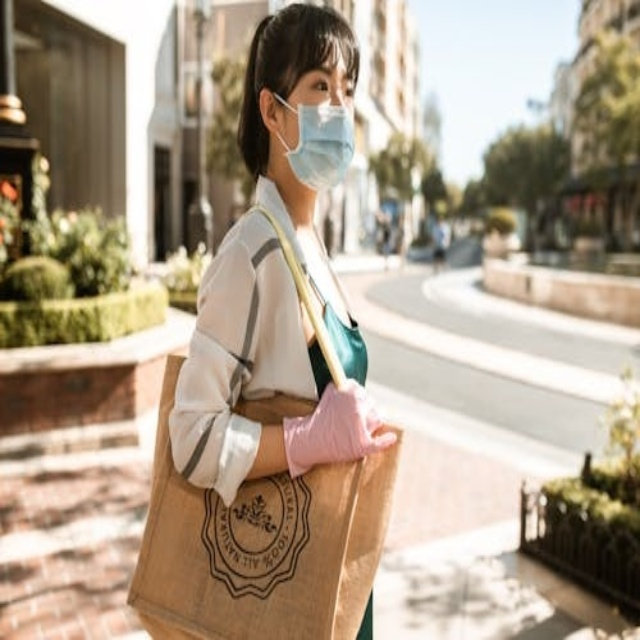Guantes: (283, 381, 398, 478)
Mascara: (273, 92, 355, 192)
Sin_gafas: (311, 79, 330, 93)
